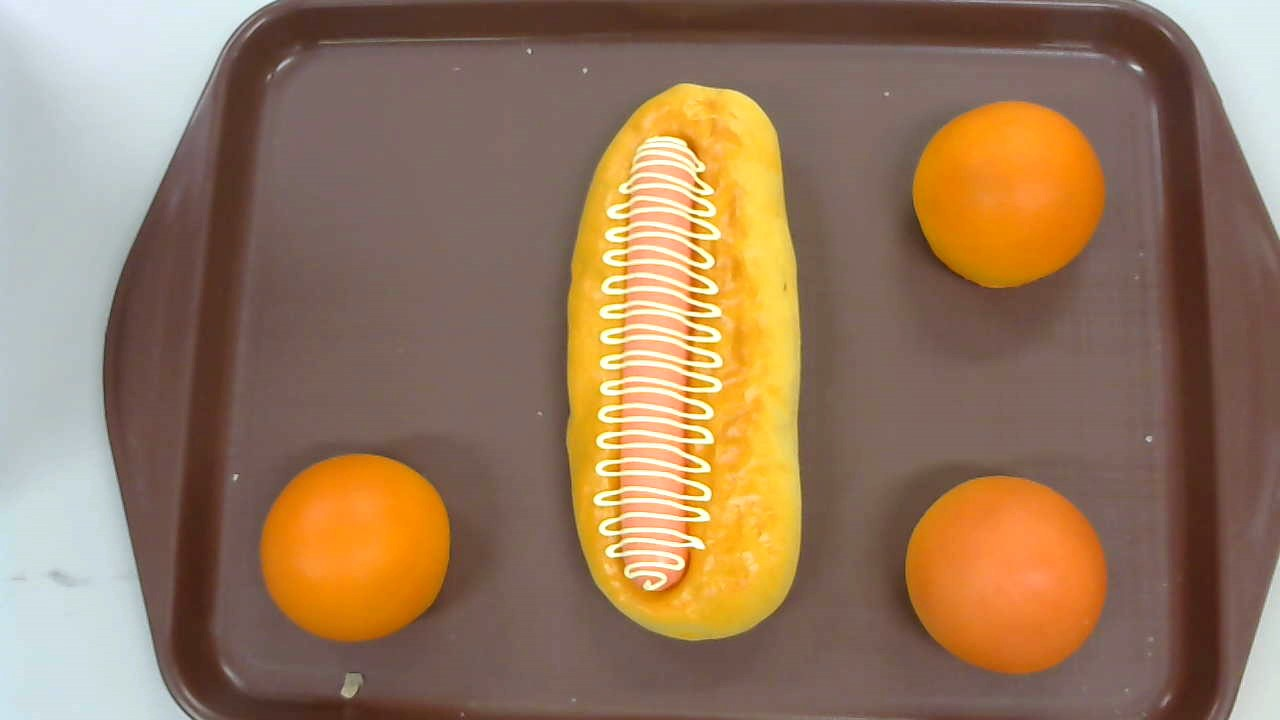bun: (905, 473, 1108, 677), (913, 98, 1105, 291), (260, 452, 450, 644)
hot dog: (566, 82, 803, 640)
